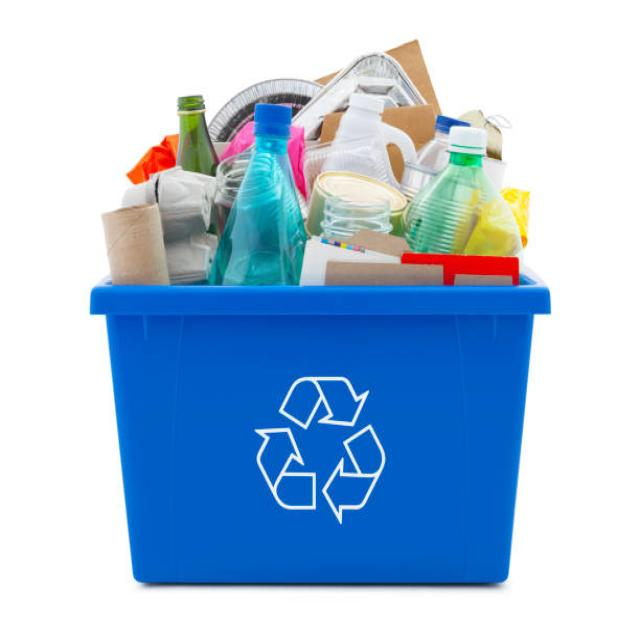cardboard: (196, 100, 531, 264)
